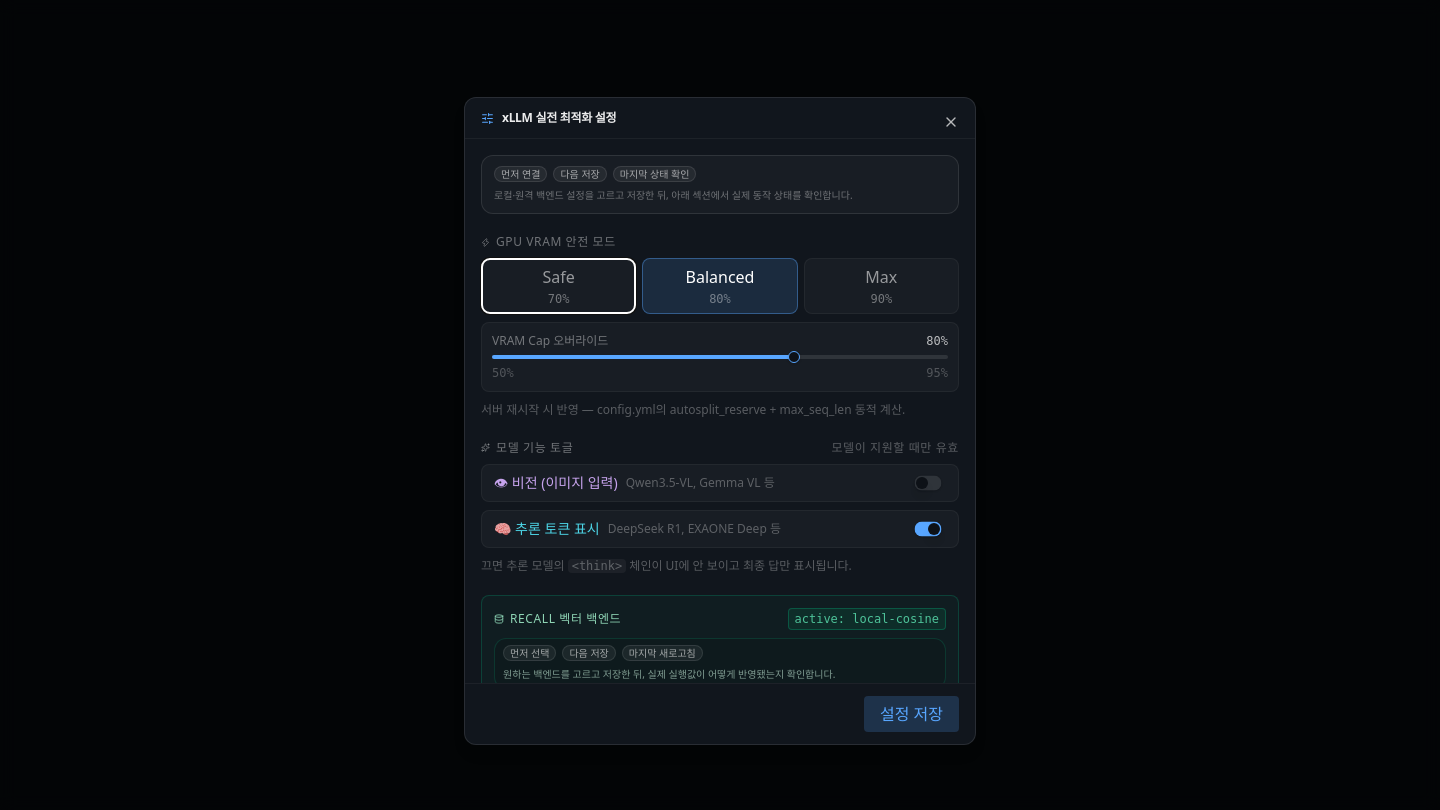
Test: XllmPanel › 상단 설정 저장 실패 시 객체 message가 숫자면 문자열로 노출한다
The width and height of the screenshot is (1440, 810).
Click the button "설정 저장" at (912, 714), box [864, 696, 959, 732]
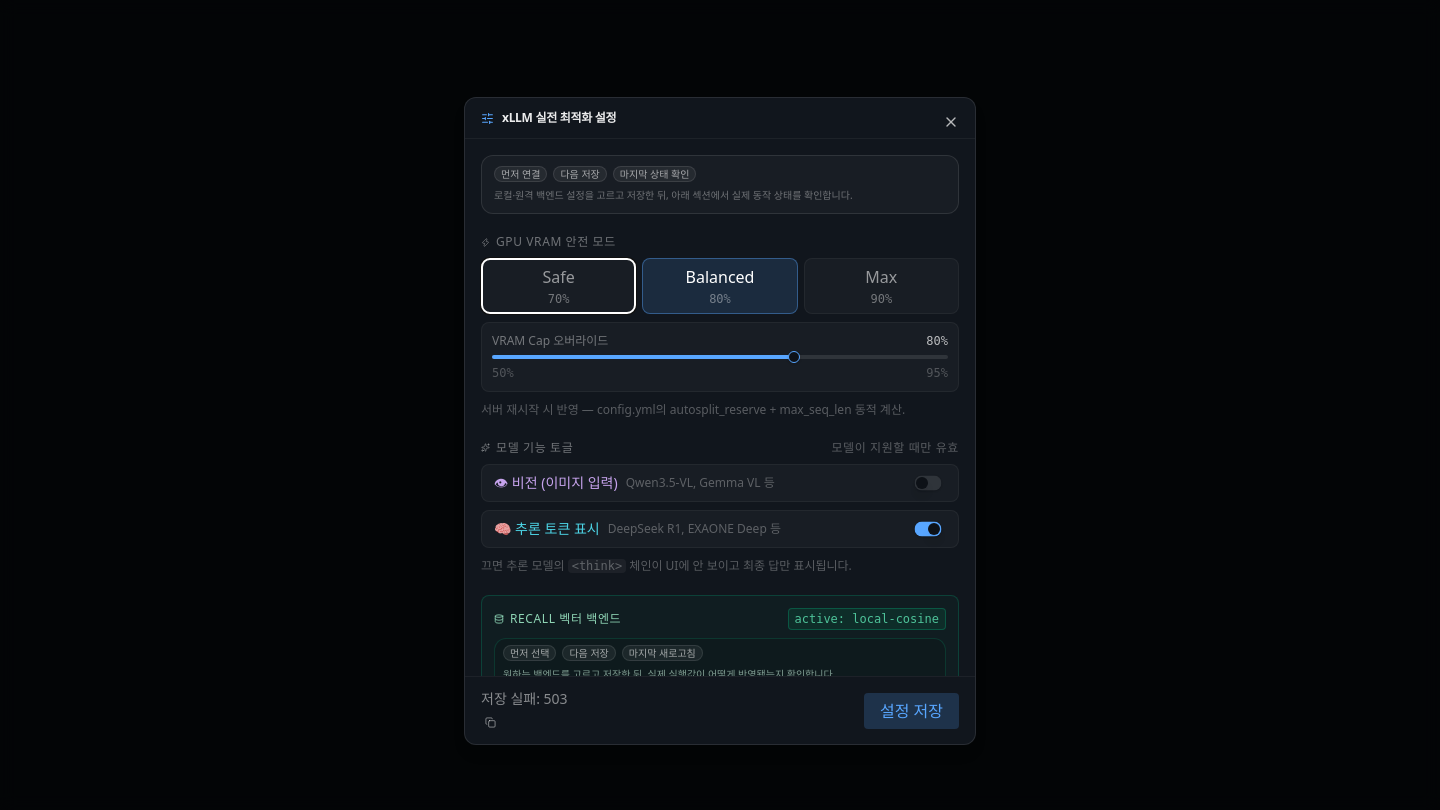
Now the text "저장 실패: 503" is shown, box [481, 689, 568, 708]
